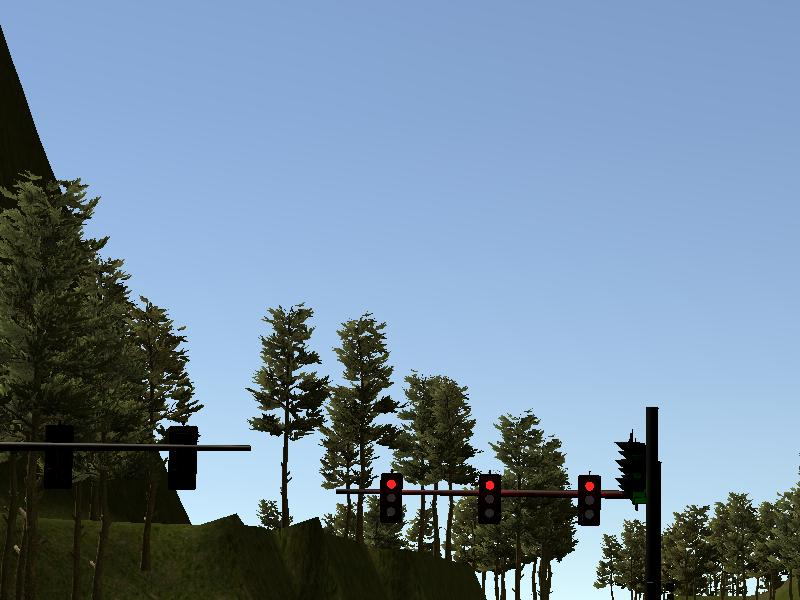Red: (379, 472, 403, 524), (578, 475, 602, 527), (479, 474, 501, 525)
